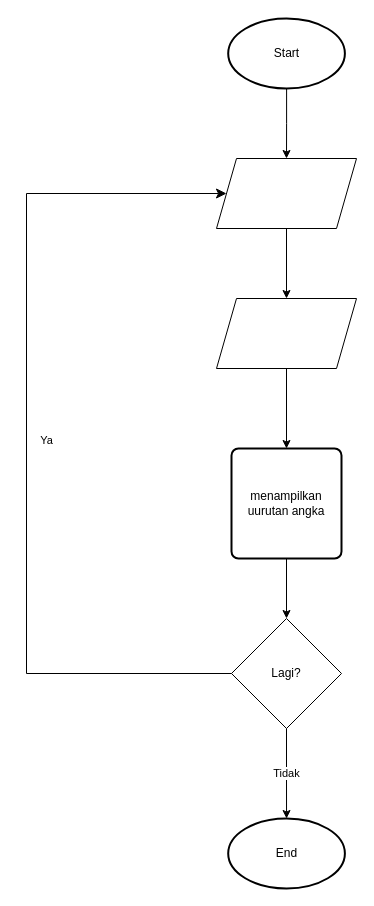
Image size: 374x906. Some labels were removed from this diagram. Here are the shapes that lost their labels. From the top down, the centre of each, then its label:
the point at 286,193: Pilih mode: SLL/DLL/MLL
the point at 286,333: Input urutan angka
